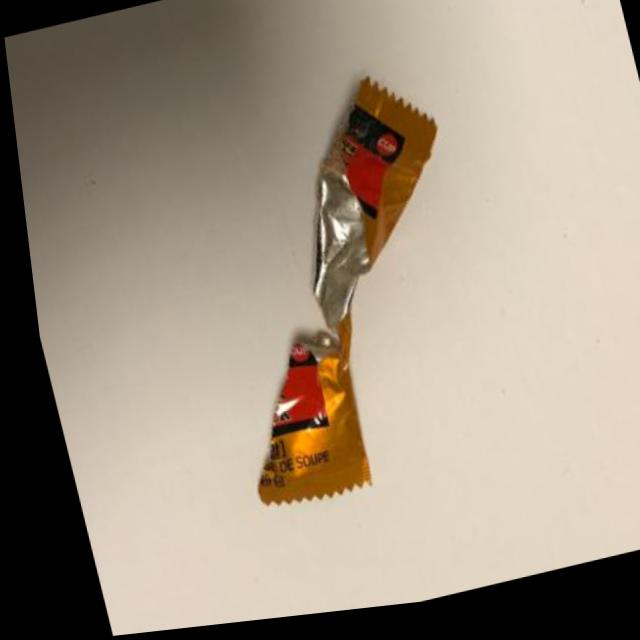trash: (88, 3, 614, 618)
